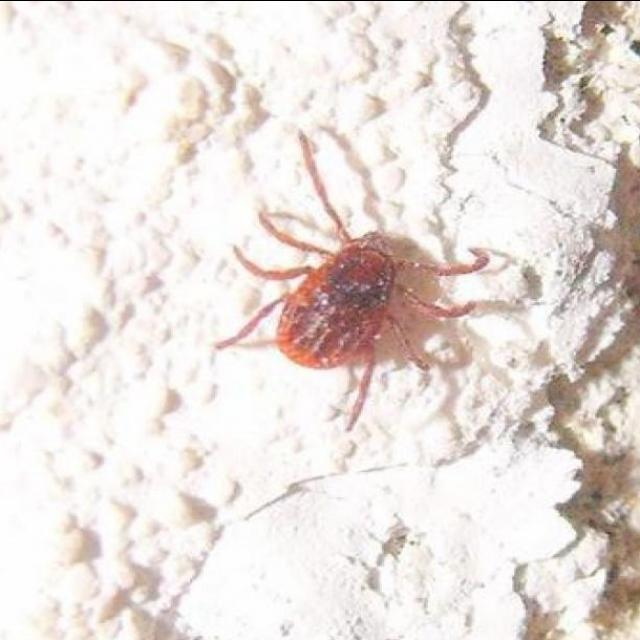Rhipicephalus Sanguineus-F: (215, 128, 514, 424)
